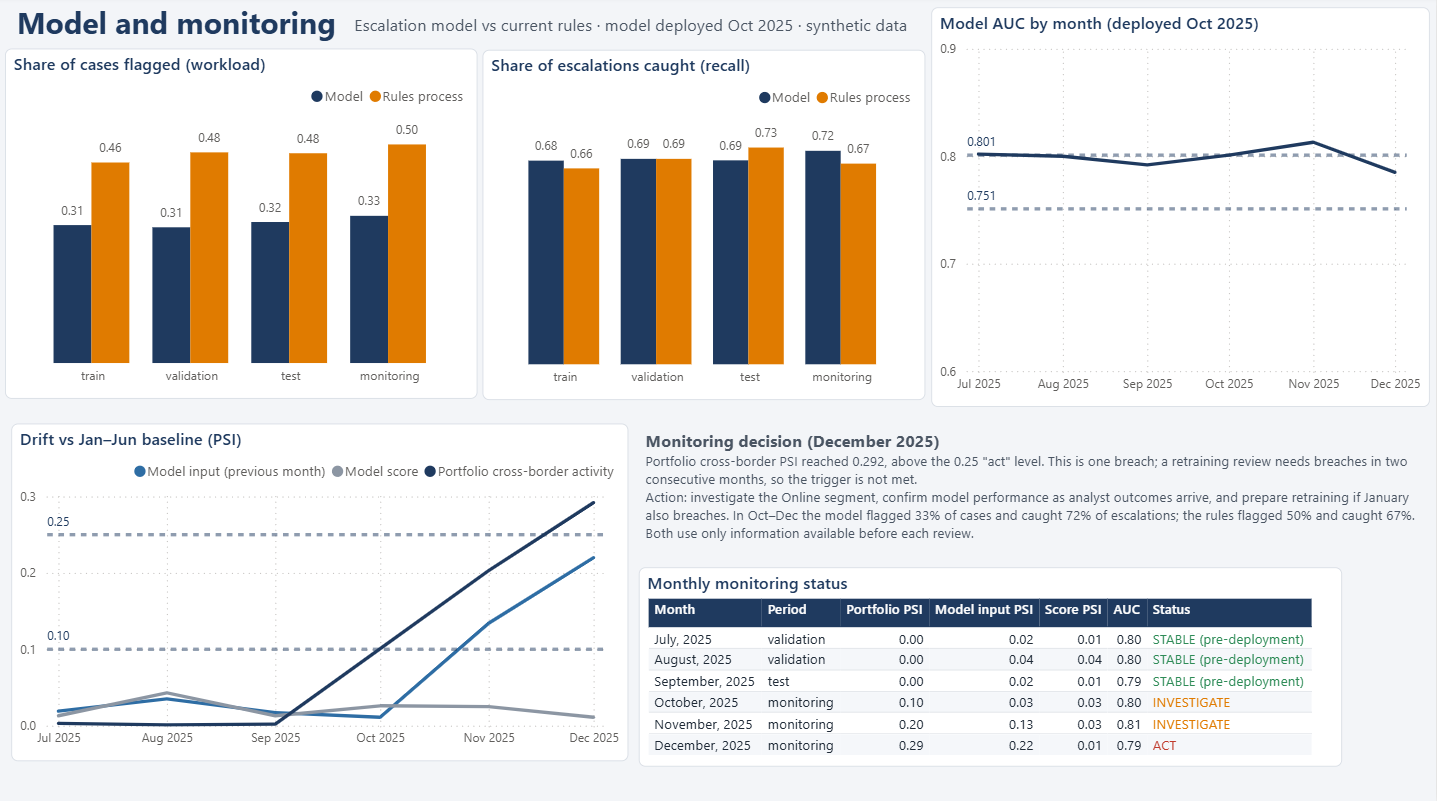

The dashboard page shown, as its layout file describes it:
{"tool":"powerbi","page":{"name":"Model and monitoring","canvas":[1280,720],"ordinal":3},"visuals":[{"type":"textbox","box":[9.7,0,300.4,59.1],"z":0},{"type":"clusteredColumnChart","title":"Share of cases flagged (workload)","fields":{"Category":["model_vs_rules.period"],"Y":["Sum(model_vs_rules.workload)"],"Series":["model_vs_rules.approach"]},"box":[4,47,421,312.1],"z":1000},{"type":"clusteredColumnChart","title":"Share of escalations caught (recall)","fields":{"Category":["model_vs_rules.period"],"Series":["model_vs_rules.approach"],"Y":["Sum(model_vs_rules.recall)"]},"box":[430,47.7,394.1,312.1],"z":2000},{"type":"lineChart","title":"Drift vs Jan–Jun baseline (PSI)","fields":{"Category":["monitoring_psi.month"],"Y":["Sum(monitoring_psi.psi)"],"Series":["monitoring_psi.Series"]},"box":[9.8,380.6,549.6,301.1],"z":3000},{"type":"lineChart","title":"Model AUC by month (deployed Oct 2025)","fields":{"Category":["monitoring_performance.month"],"Y":["Sum(monitoring_performance.auc)"]},"box":[829,9.8,444,356],"z":4000},{"type":"tableEx","title":"Monthly monitoring status","fields":{"Values":["monitoring_status.month","monitoring_status.period","monitoring_status.max_portfolio_psi","monitoring_status.max_model_input_psi","monitoring_status.score_psi","monitoring_status.auc","monitoring_status.status"]},"box":[569.1,509.2,626.7,177.5],"z":5000},{"type":"textbox","box":[569.4,381.2,700.9,119.4],"z":6000},{"type":"textbox","box":[310.1,9.7,509.1,37.4],"z":7000}]}

Visuals, with their boxes in screenshot pixels (x1, y1, x2, y2), scaled from the page's 1280x720 canvas onto the 1437x801 screenshot:
textbox: 11/0/348/66
"Share of cases flagged (workload)" clusteredColumnChart: 4/52/477/399
"Share of escalations caught (recall)" clusteredColumnChart: 483/53/925/400
"Drift vs Jan–Jun baseline (PSI)" lineChart: 11/423/628/758
"Model AUC by month (deployed Oct 2025)" lineChart: 931/11/1429/407
"Monthly monitoring status" tableEx: 639/566/1342/764
textbox: 639/424/1426/557
textbox: 348/11/920/52
